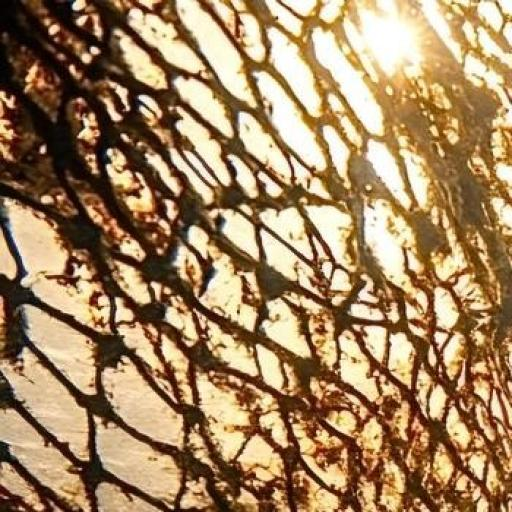net: (0, 1, 512, 512)
